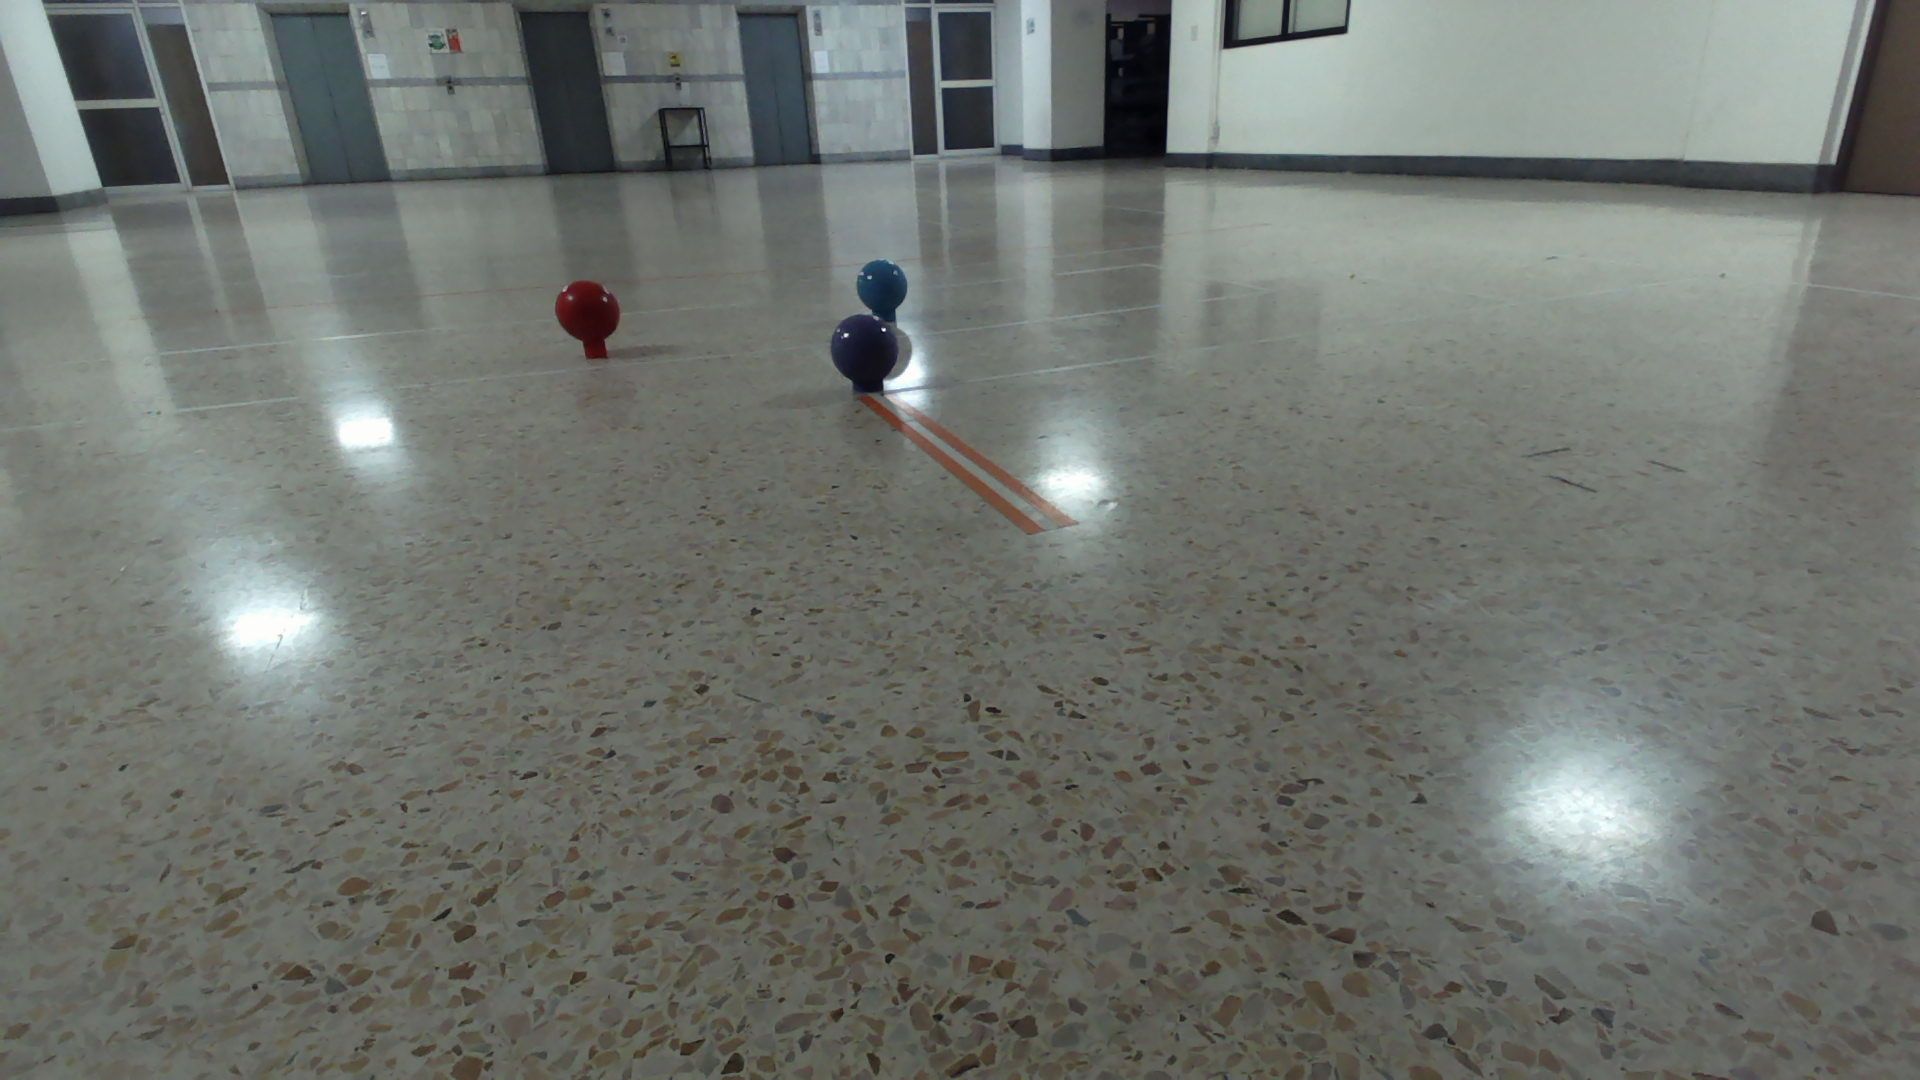Blue ball: (855, 257, 909, 313)
Purple ball: (829, 313, 899, 385)
Red ball: (553, 278, 622, 343)
